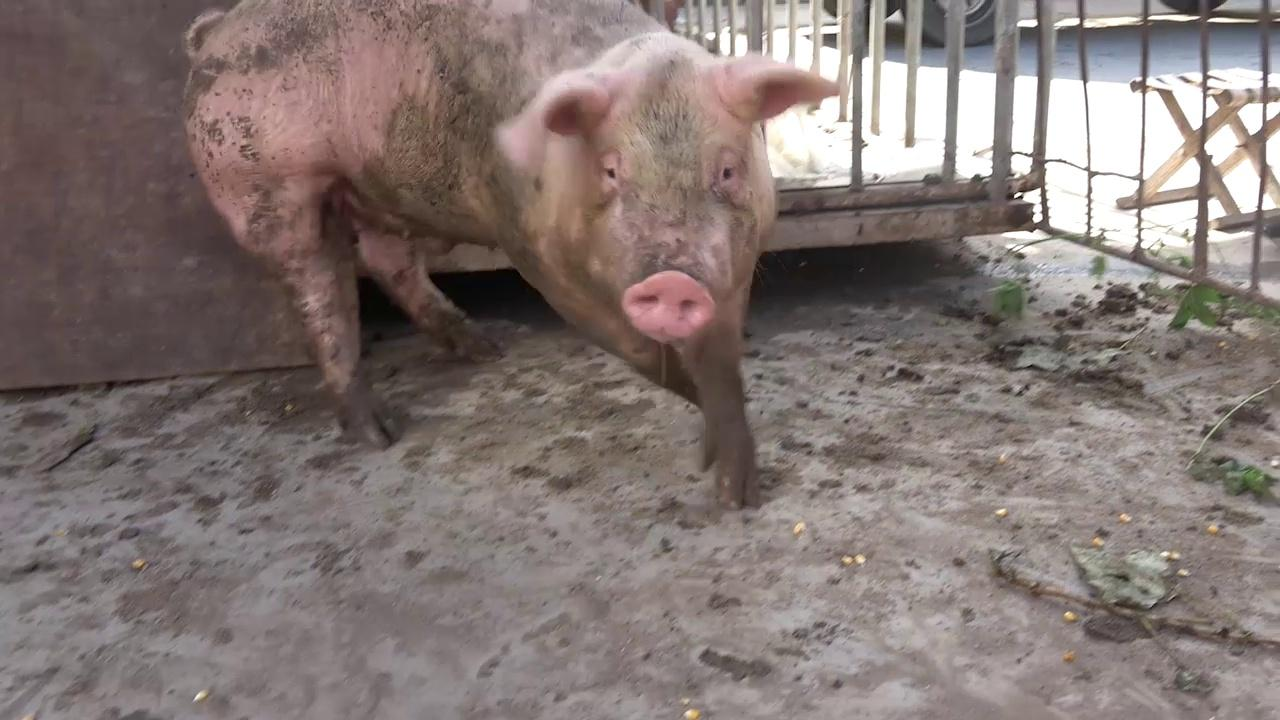Face: (485, 29, 853, 358)
